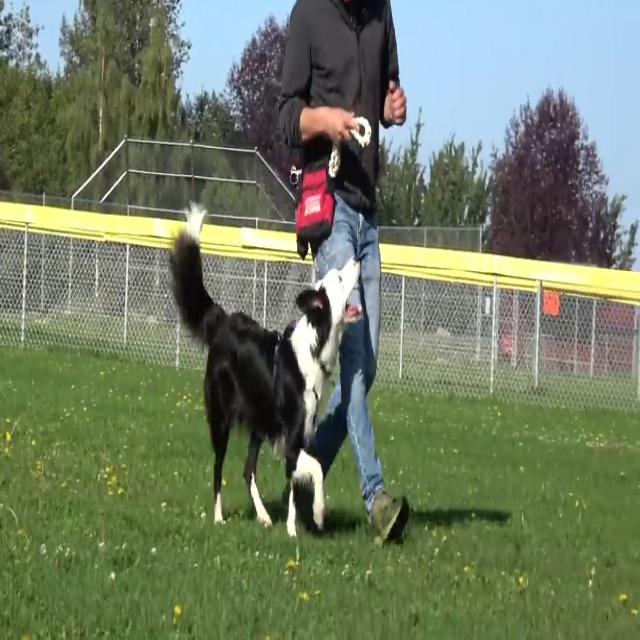Unleashed_Dog: (167, 200, 371, 538)
